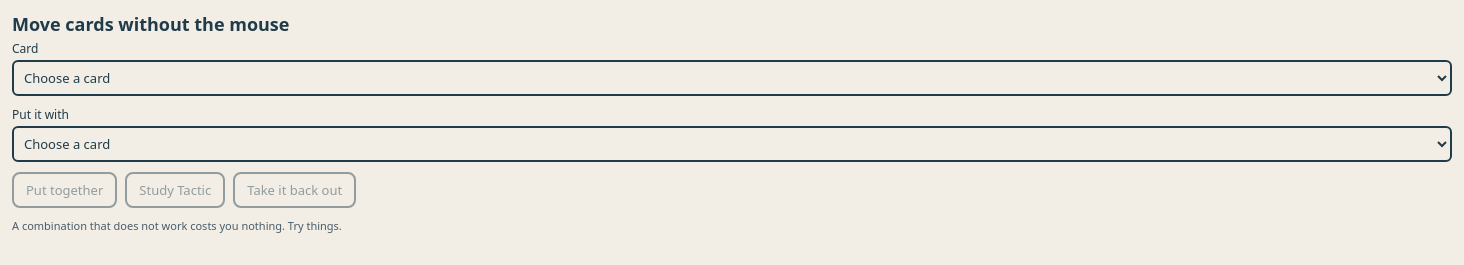
AccessibleCardControls › explains a staffer who is already working rather than silently refusing
Select "Policy Aide — working" in the dropdown with test id "controls-source" at (732, 78), box [12, 60, 1452, 96]
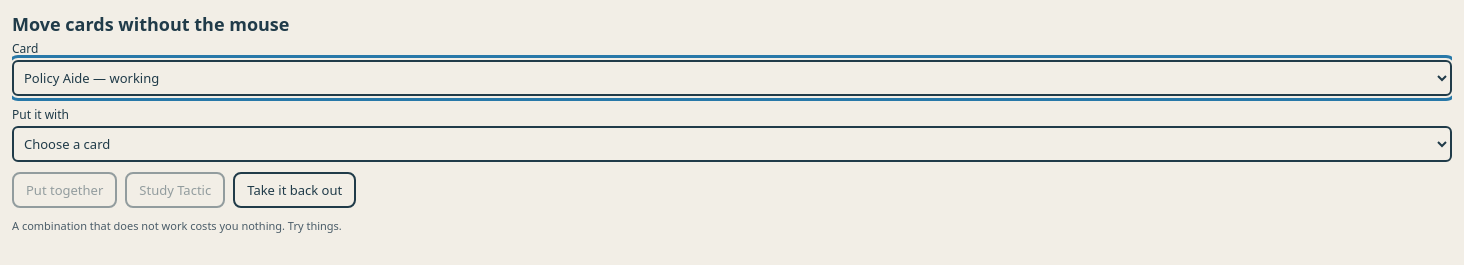
Select "Bipartisan Working Group" in the dropdown with test id "controls-target" at (732, 144), box [12, 126, 1452, 162]
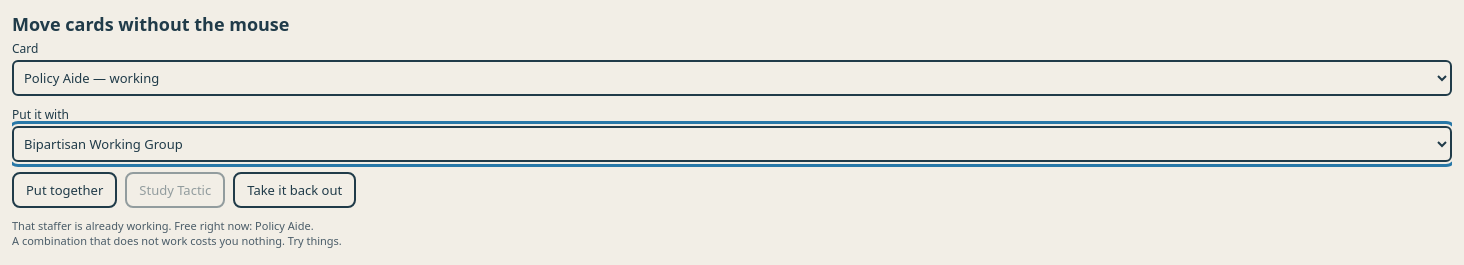
Expected: the button with test id "controls-study" is disabled, [125, 172, 225, 208]
Now the text with test id "controls-study-note" shows "already working", box [12, 218, 314, 233]
